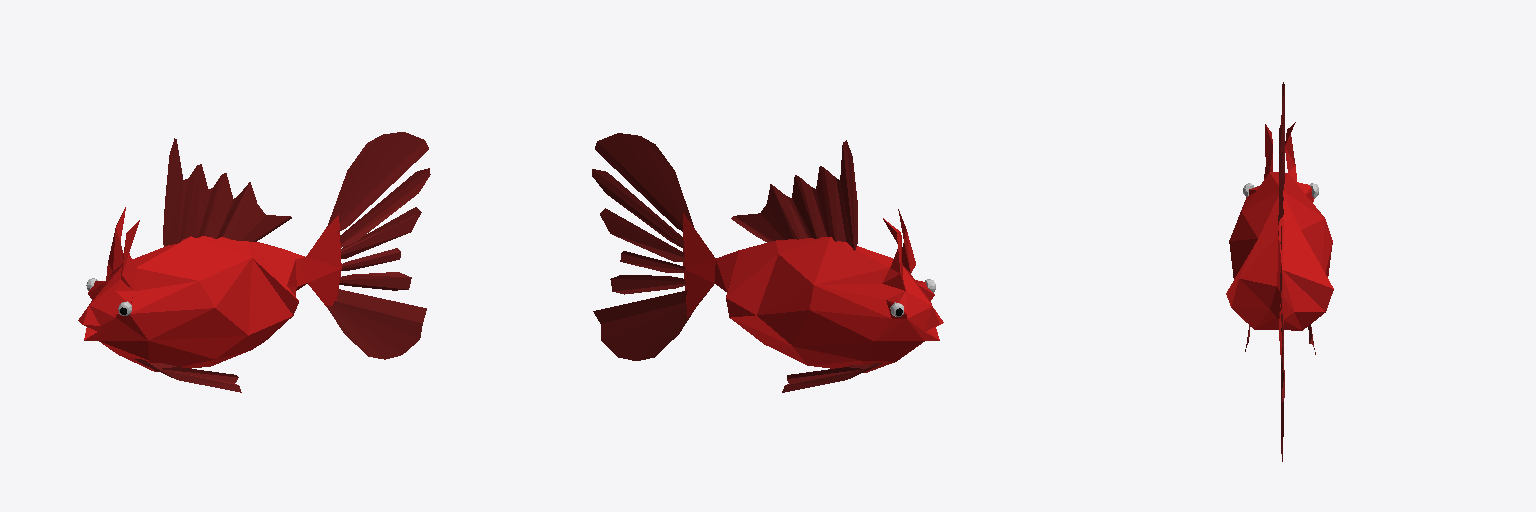
The model's file is fish2.obj.
3 renders of one model, left to right at view 1: azimuth 30°, elevation 25°; view 2: azimuth 150°, elevation 25°; view 3: azimuth 270°, elevation 25°, orthographic.
Visible parts, largest first — view 1: Body, TailFin, TopFin, BottomFin; view 2: Body, TailFin, TopFin, BottomFin; view 3: Body, TopFin.
Part boxes in pixels (x1,y1,x2,y2): Body: (78, 207, 341, 371); TailFin: (327, 132, 430, 359); TopFin: (163, 138, 291, 246); BottomFin: (135, 359, 241, 392); Body: (683, 209, 943, 372); TailFin: (592, 133, 693, 360); TopFin: (731, 140, 857, 250); BottomFin: (782, 363, 881, 392); Body: (1226, 122, 1333, 357); TopFin: (1278, 82, 1284, 243).
Size of the model in its own units: 4.41 by 3.28 by 1.18.